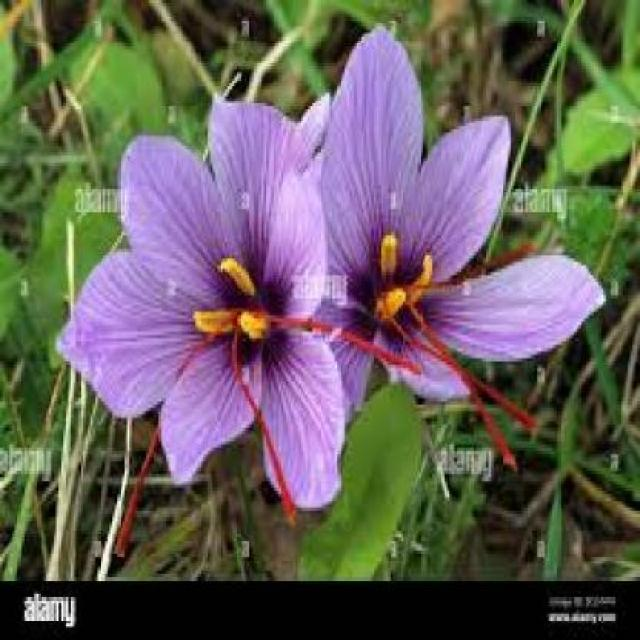Flower: (296, 29, 607, 438), (59, 100, 343, 508)
stigma: (112, 338, 206, 556), (411, 305, 523, 476), (406, 300, 544, 437), (226, 338, 302, 530), (294, 314, 421, 379)
